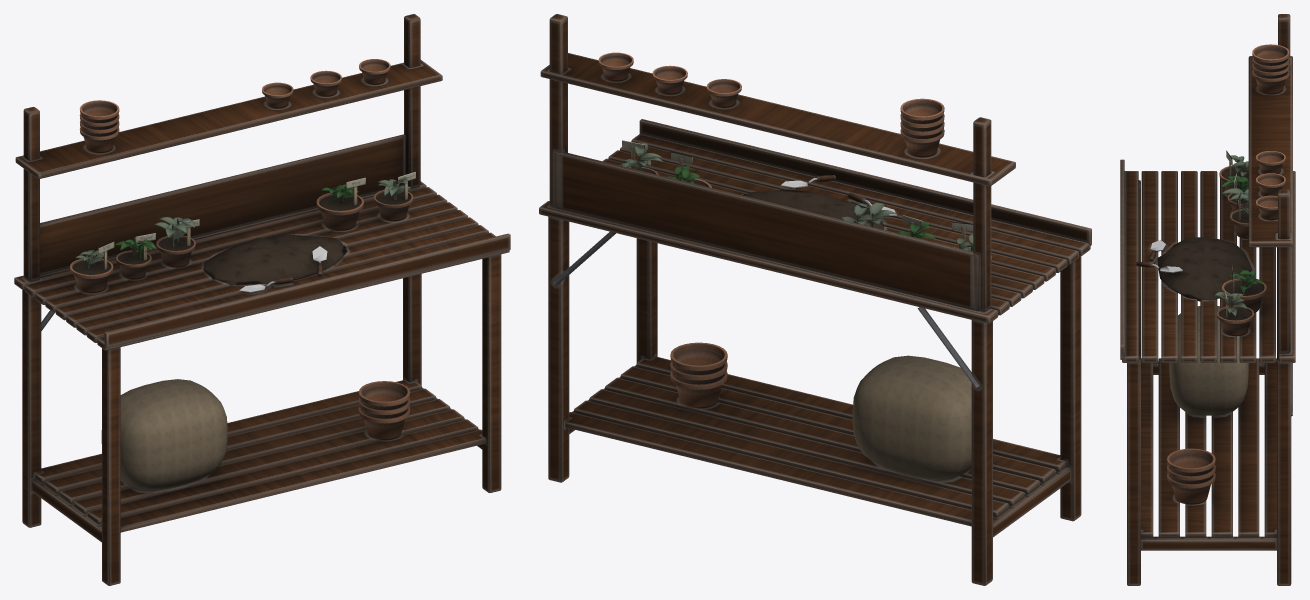
Rendered from PottingBench.fbx.
3 views of the same model, side by side, from view 1: azimuth 30°, elevation 25°; view 2: azimuth 150°, elevation 25°; view 3: azimuth 270°, elevation 25° (orthographic). The views are drawn at different scales.
Parts seen in each view (by area): view 1: PottingBench; view 2: PottingBench; view 3: PottingBench.
Boxes of the visible parts, x1,y1,x2,y2 form: PottingBench: (14, 14, 510, 585); PottingBench: (539, 14, 1091, 585); PottingBench: (1120, 14, 1295, 585).
Size of the model in its own units: 500 by 490 by 199.
